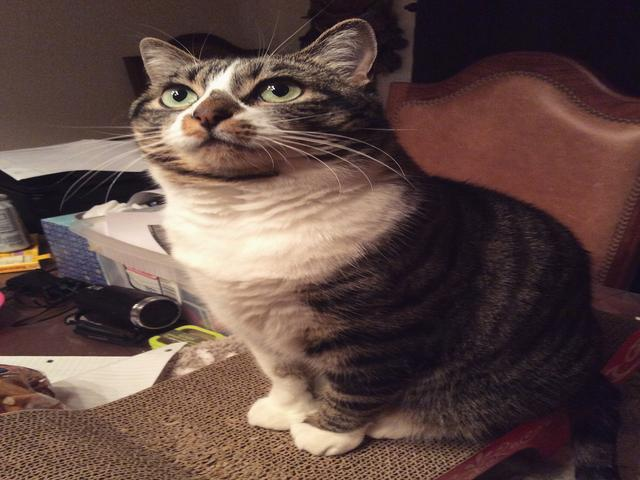playdoh: (127, 17, 596, 464)
